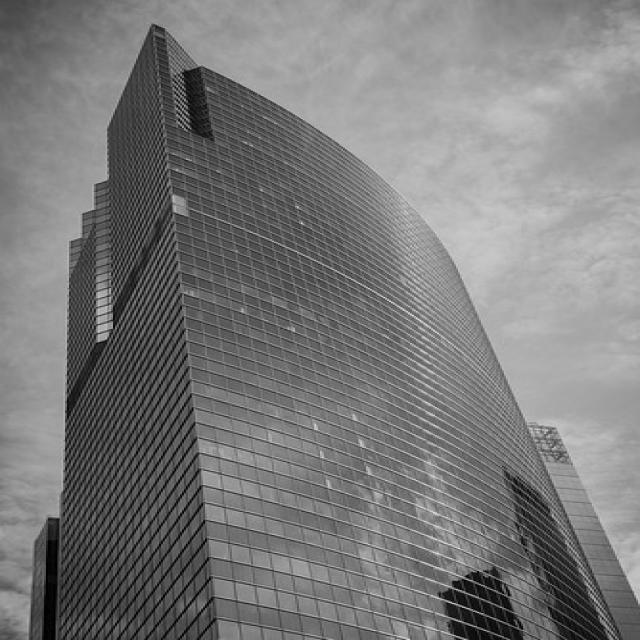Normal_building: (12, 19, 630, 640)
